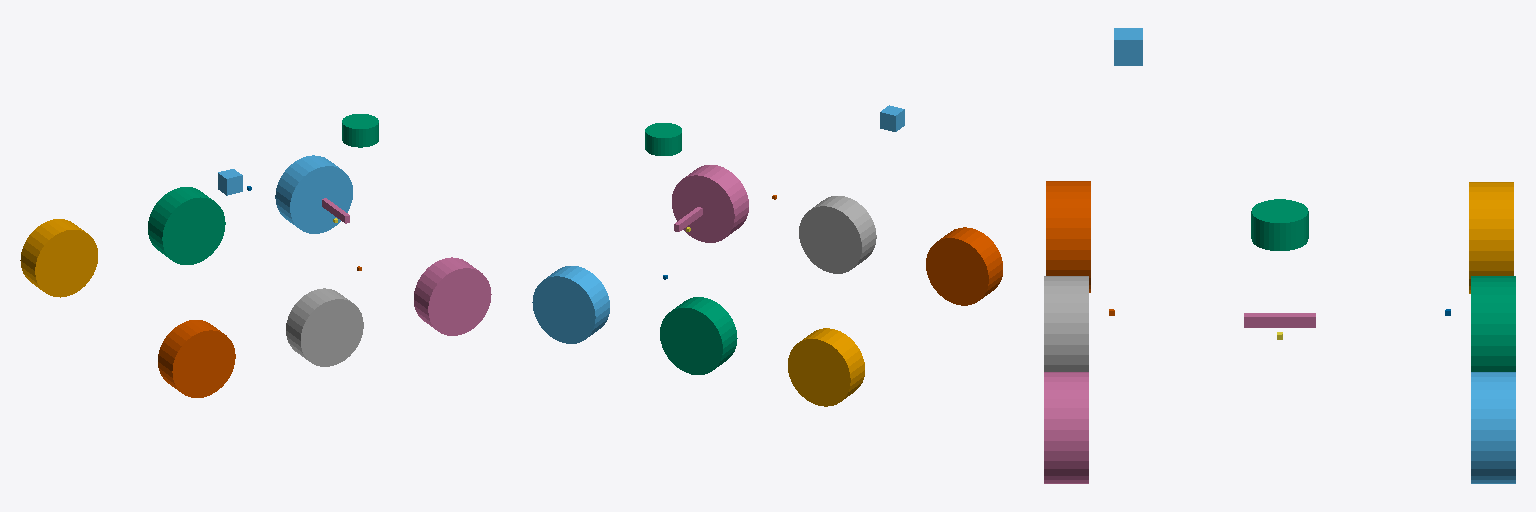
--- Facts derived from the render (not from the file) ---
3 views of the same robot in one strip: view 1: azimuth 30°, elevation 25°; view 2: azimuth 150°, elevation 25°; view 3: azimuth 270°, elevation 25° (orthographic).
Model walli with 19 links and 18 joints (4 revolute, 6 continuous, 8 fixed), rooted at base_link, posed every joint at zero.
Links seen in each view (by area): view 1: right_center_wheel, right_rear_wheel, left_center_wheel, right_front_wheel, left_rear_wheel, left_front_wheel, lidar_link2, gps_link; view 2: left_rear_wheel, right_center_wheel, right_rear_wheel, left_front_wheel, left_center_wheel, right_front_wheel, lidar_link2, gps_link; view 3: right_front_wheel, left_front_wheel, right_center_wheel, left_center_wheel, right_rear_wheel, left_rear_wheel, lidar_link2, gps_link, camera_link.
Boxes of the visible links, bbox=[...] form: right_center_wheel: bbox=[286, 288, 363, 366]; right_rear_wheel: bbox=[158, 320, 235, 397]; left_center_wheel: bbox=[148, 187, 225, 264]; right_front_wheel: bbox=[414, 257, 491, 335]; left_rear_wheel: bbox=[20, 219, 97, 297]; left_front_wheel: bbox=[275, 155, 352, 233]; lidar_link2: bbox=[342, 114, 378, 147]; gps_link: bbox=[218, 169, 242, 195]; left_rear_wheel: bbox=[788, 328, 864, 406]; right_center_wheel: bbox=[799, 196, 876, 273]; right_rear_wheel: bbox=[926, 227, 1002, 305]; left_front_wheel: bbox=[532, 266, 609, 343]; left_center_wheel: bbox=[660, 297, 737, 374]; right_front_wheel: bbox=[672, 165, 748, 242]; lidar_link2: bbox=[645, 123, 681, 155]; gps_link: bbox=[880, 105, 904, 131]; right_front_wheel: bbox=[1044, 372, 1088, 483]; left_front_wheel: bbox=[1471, 372, 1515, 483]; right_center_wheel: bbox=[1044, 276, 1088, 371]; left_center_wheel: bbox=[1471, 276, 1515, 371]; right_rear_wheel: bbox=[1046, 181, 1090, 292]; left_rear_wheel: bbox=[1469, 182, 1513, 293]; lidar_link2: bbox=[1251, 199, 1308, 250]; gps_link: bbox=[1114, 28, 1142, 65]; camera_link: bbox=[1244, 313, 1315, 327].
Size in the robot's own frame: 1.01 by 0.8394 by 0.5772 metres.
Geometry: only primitive shapes (box / cylinder / sphere) drawn; not drawn: 5 mesh visuals (reference in a form the renderer does not follow).

URDF robot description (walli):
<?xml version="1.0" ?>
<!-- =================================================================================== -->
<!-- |    This document was autogenerated by xacro from walli.xacro                    | -->
<!-- |    EDITING THIS FILE BY HAND IS NOT RECOMMENDED                                 | -->
<!-- =================================================================================== -->
<robot name="walli">
  <!-- body_length is measured along the x axis, body_width
       along the y axis, and body_height along the z axis. -->
  <material name="body_mat">
    <color rgba="0.5 0.5 0.5 1"/>
  </material>
  <material name="tire_mat">
    <color rgba="0 0 0 1"/>
  </material>
  <!-- IMU -->
  <link name="imu_link"/>
  <joint name="imu_joint" type="fixed">
    <origin xyz="0.14 0.0 0.22"/>
    <parent link="base_link"/>
    <child link="imu_link"/>
  </joint>
  <gazebo reference="imu_link">
    <sensor name="imu_sensor" type="imu">
      <plugin filename="libgazebo_ros_imu_sensor.so" name="imu_plugin">
        <ros>
          <namespace>/imu</namespace>
          <remapping>~/out:=data</remapping>
        </ros>
        <initial_orientation_as_reference>false</initial_orientation_as_reference>
      </plugin>
      <always_on>true</always_on>
      <update_rate>100</update_rate>
      <visualize>true</visualize>
      <imu>
        <angular_velocity>
          <x>
            <noise type="gaussian">
              <mean>0.0</mean>
              <stddev>2e-4</stddev>
              <bias_mean>0.0</bias_mean>
              <bias_stddev>0.0</bias_stddev>
            </noise>
          </x>
          <y>
            <noise type="gaussian">
              <mean>0.0</mean>
              <stddev>2e-4</stddev>
              <bias_mean>0.0</bias_mean>
              <bias_stddev>0.0</bias_stddev>
            </noise>
          </y>
          <z>
            <noise type="gaussian">
              <mean>0.0</mean>
              <stddev>2e-4</stddev>
              <bias_mean>0.0</bias_mean>
              <bias_stddev>0.0</bias_stddev>
            </noise>
          </z>
        </angular_velocity>
        <linear_acceleration>
          <x>
            <noise type="gaussian">
              <mean>0.0</mean>
              <stddev>1.7e-2</stddev>
              <bias_mean>0.0</bias_mean>
              <bias_stddev>0.0</bias_stddev>
            </noise>
          </x>
          <y>
            <noise type="gaussian">
              <mean>0.0</mean>
              <stddev>1.7e-2</stddev>
              <bias_mean>0.0</bias_mean>
              <bias_stddev>0.0</bias_stddev>
            </noise>
          </y>
          <z>
            <noise type="gaussian">
              <mean>0.0</mean>
              <stddev>1.7e-2</stddev>
              <bias_mean>0.0</bias_mean>
              <bias_stddev>0.0</bias_stddev>
            </noise>
          </z>
        </linear_acceleration>
      </imu>
    </sensor>
  </gazebo>
  <!-- GPS -->
  <link name="gps_link">
    <visual>
      <geometry>
        <box size="0.05 0.05 0.05"/>
      </geometry>
    </visual>
    <collision>
      <geometry>
        <box size="0.05 0.05 0.05"/>
      </geometry>
    </collision>
    <inertial>
      <origin rpy="1.5707963267948966 0 1.5707963267948966" xyz="0 0 0"/>
      <mass value="0.1"/>
      <inertia ixx="0.0001666666666666667" ixy="0.0" ixz="0.0" iyy="0.0001666666666666667" iyz="0.0" izz="0.0001666666666666667"/>
    </inertial>
  </link>
  <joint name="gps_joint" type="fixed">
    <axis xyz="1 0 0"/>
    <origin xyz="-0.39 -0.27 0.34"/>
    <parent link="base_link"/>
    <child link="gps_link"/>
  </joint>
  <gazebo reference="gps">
    <sensor name="gps" type="gps">
      <plugin filename="libgazebo_ros_gps_sensor.so" name="gps_plugin">
        <ros>
          <namespace>/gps</namespace>
          <remapping>~/out:=data_raw</remapping>
        </ros>
        <frame_name>gps_link</frame_name>
      </plugin>
      <always_on>true</always_on>
      <updateRate>30</updateRate>
    </sensor>
  </gazebo>
  <!-- LIDAR -->
  <link name="lidar_link2">
    <inertial>
      <origin rpy="0 0 0" xyz="0 0 0"/>
      <mass value="0.125"/>
      <inertia ixx="0.001" ixy="0" ixz="0" iyy="0.001" iyz="0" izz="0.001"/>
    </inertial>
    <collision>
      <origin rpy="0 0 0" xyz="0 0 0"/>
      <geometry>
        <cylinder length="0.055" radius="0.0508"/>
      </geometry>
    </collision>
    <visual>
      <origin rpy="0 0 0" xyz="0 0 0"/>
      <geometry>
        <cylinder length="0.055" radius="0.0508"/>
      </geometry>
    </visual>
  </link>
  <joint name="lidar_joint" type="fixed">
    <parent link="base_link"/>
    <child link="lidar_link2"/>
    <origin rpy="3.14159265358 0 0" xyz="0.1778 0.0 0.254"/>
  </joint>
  <!--<gazebo reference="lidar_link">
    <sensor name="lidar" type="ray">
      <always_on>true</always_on>
      <visualize>true</visualize>
      <update_rate>5</update_rate>
      <ray>
        <scan>
          <horizontal>
            <samples>360</samples>
            <resolution>1.000000</resolution>
            <min_angle>0.000000</min_angle>
            <max_angle>6.280000</max_angle>
          </horizontal>
        </scan>
        <range>
          <min>0.12</min>
          <max>3.5</max>
          <resolution>0.015000</resolution>
        </range>
        <noise>
          <type>gaussian</type>
          <mean>0.0</mean>
          <stddev>0.01</stddev>
        </noise>
      </ray>
      <plugin name="scan" filename="libgazebo_ros_ray_sensor.so">
        <ros>
          <remapping>~/out:=scan</remapping>
        </ros>
        <output_type>sensor_msgs/LaserScan</output_type>
        <frame_name>lidar_link</frame_name>
      </plugin>
    </sensor>
  </gazebo> -->
  <link name="cam/center">
    <visual>
      <geometry>
        <box size="0.01 0.01 0.01"/>
      </geometry>
    </visual>
    <collision>
      <geometry>
        <box size="0.01 0.01 0.01"/>
      </geometry>
    </collision>
    <inertial>
      <origin rpy="1.5707963267948966 0 1.5707963267948966" xyz="0 0 0"/>
      <mass value="0.01"/>
      <inertia ixx="1.6666666666666668e-07" ixy="0.0" ixz="0.0" iyy="1.6666666666666668e-07" iyz="0.0" izz="1.6666666666666668e-07"/>
    </inertial>
  </link>
  <joint name="center_cam_joint" type="fixed">
    <axis xyz="1 0 0"/>
    <!-- Camera Orientation-->
    <origin rpy="0 0 -0.14" xyz="0.1 0 0"/>
    <parent link="base_link"/>
    <child link="cam/center"/>
  </joint>
  <gazebo reference="cam/center">
    <sensor name="center_sensor" type="camera">
      <plugin filename="libgazebo_ros_camera.so" name="center_sensor">
        <ros>
          <namespace>/image</namespace>
          <remapping>~/image_raw:=center_img</remapping>
          <remapping>~/camera_info:=center_camera_info</remapping>
        </ros>
        <initial_orientation_as_reference>false</initial_orientation_as_reference>
        <camera_name>center_camera</camera_name>
        <frame_name>center_tf</frame_name>
        <hack_baseline>0.07</hack_baseline>
      </plugin>
      <always_on>true</always_on>
      <update_rate>100</update_rate>
      <visualize>true</visualize>
      <camera name="cam/center">
        <horizontal_fov>1.3962634</horizontal_fov>
        <image>
          <width>800</width>
          <height>800</height>
          <format>R8G8B8</format>
        </image>
        <clip>
          <near>0.02</near>
          <far>300</far>
        </clip>
        <noise>
          <type>gaussian</type>
          <mean>0</mean>
          <stddev>0.007</stddev>
        </noise>
      </camera>
    </sensor>
  </gazebo>
  <link name="cam/left">
    <visual>
      <geometry>
        <box size="0.01 0.01 0.01"/>
      </geometry>
    </visual>
    <collision>
      <geometry>
        <box size="0.01 0.01 0.01"/>
      </geometry>
    </collision>
    <inertial>
      <origin rpy="1.5707963267948966 0 1.5707963267948966" xyz="0 0 0"/>
      <mass value="0.01"/>
      <inertia ixx="1.6666666666666668e-07" ixy="0.0" ixz="0.0" iyy="1.6666666666666668e-07" iyz="0.0" izz="1.6666666666666668e-07"/>
    </inertial>
  </link>
  <joint name="left_cam_joint" type="fixed">
    <axis xyz="1 0 0"/>
    <!-- Camera Orientation-->
    <origin rpy="0 0 1.5" xyz="0 0.3 0"/>
    <parent link="base_link"/>
    <child link="cam/left"/>
  </joint>
  <gazebo reference="cam/left">
    <sensor name="left_sensor" type="camera">
      <plugin filename="libgazebo_ros_camera.so" name="left_sensor">
        <ros>
          <namespace>/image</namespace>
          <remapping>~/image_raw:=left_img</remapping>
          <remapping>~/camera_info:=left_camera_info</remapping>
        </ros>
        <initial_orientation_as_reference>false</initial_orientation_as_reference>
        <camera_name>left_camera</camera_name>
        <frame_name>left_tf</frame_name>
        <hack_baseline>0.07</hack_baseline>
      </plugin>
      <always_on>true</always_on>
      <update_rate>100</update_rate>
      <visualize>true</visualize>
      <camera name="cam/left">
        <horizontal_fov>1.3962634</horizontal_fov>
        <image>
          <width>800</width>
          <height>800</height>
          <format>R8G8B8</format>
        </image>
        <clip>
          <near>0.02</near>
          <far>300</far>
        </clip>
        <noise>
          <type>gaussian</type>
          <mean>0</mean>
          <stddev>0.007</stddev>
        </noise>
      </camera>
    </sensor>
  </gazebo>
  <link name="cam/right">
    <visual>
      <geometry>
        <box size="0.01 0.01 0.01"/>
      </geometry>
    </visual>
    <collision>
      <geometry>
        <box size="0.01 0.01 0.01"/>
      </geometry>
    </collision>
    <inertial>
      <origin rpy="1.5707963267948966 0 1.5707963267948966" xyz="0 0 0"/>
      <mass value="0.01"/>
      <inertia ixx="1.6666666666666668e-07" ixy="0.0" ixz="0.0" iyy="1.6666666666666668e-07" iyz="0.0" izz="1.6666666666666668e-07"/>
    </inertial>
  </link>
  <joint name="right_cam_joint" type="fixed">
    <axis xyz="1 0 0"/>
    <!-- Camera Orientation-->
    <origin rpy="0 0 -1.5" xyz="0 -0.3 0"/>
    <parent link="base_link"/>
    <child link="cam/right"/>
  </joint>
  <gazebo reference="cam/right">
    <sensor name="right_sensor" type="camera">
      <plugin filename="libgazebo_ros_camera.so" name="right_sensor">
        <ros>
          <namespace>/image</namespace>
          <remapping>~/image_raw:=right_img</remapping>
          <remapping>~/camera_info:=right_camera_info</remapping>
        </ros>
        <initial_orientation_as_reference>false</initial_orientation_as_reference>
        <camera_name>right_camera</camera_name>
        <frame_name>right_tf</frame_name>
        <hack_baseline>0.07</hack_baseline>
      </plugin>
      <always_on>true</always_on>
      <update_rate>100</update_rate>
      <visualize>true</visualize>
      <camera name="cam/right">
        <horizontal_fov>1.3962634</horizontal_fov>
        <image>
          <width>800</width>
          <height>800</height>
          <format>R8G8B8</format>
        </image>
        <clip>
          <near>0.02</near>
          <far>300</far>
        </clip>
        <noise>
          <type>gaussian</type>
          <mean>0</mean>
          <stddev>0.007</stddev>
        </noise>
      </camera>
    </sensor>
  </gazebo>
  <!-- Depth Camera -->
  <link name="camera_link">
    <visual>
      <origin rpy="0 0 0" xyz="0 0 0"/>
      <geometry>
        <box size="0.015 0.130 0.022"/>
      </geometry>
    </visual>
    <collision>
      <origin rpy="0 0 0" xyz="0 0 0"/>
      <geometry>
        <box size="0.015 0.130 0.022"/>
      </geometry>
    </collision>
    <inertial>
      <origin rpy="0 0 0" xyz="0 0 0"/>
      <mass value="0.035"/>
      <inertia ixx="0.001" ixy="0" ixz="0" iyy="0.001" iyz="0" izz="0.001"/>
    </inertial>
  </link>
  <joint name="camera_joint" type="fixed">
    <parent link="base_link"/>
    <child link="camera_link"/>
    <origin rpy="0 0 0" xyz="0.1 0 0.03"/>
  </joint>
  <link name="camera_depth_frame"/>
  <joint name="camera_depth_joint" type="fixed">
    <origin rpy="-1.5707963267948966 0 -1.5707963267948966" xyz="0 0 0"/>
    <parent link="camera_link"/>
    <child link="camera_depth_frame"/>
  </joint>
  <gazebo reference="camera_link">
    <sensor name="depth_camera" type="depth">
      <visualize>true</visualize>
      <update_rate>30.0</update_rate>
      <camera name="camera">
        <horizontal_fov>1.51844</horizontal_fov>
        <image>
          <width>640</width>
          <height>360</height>
          <format>R8G8B8</format>
        </image>
        <clip>
          <near>0.05</near>
          <far>3</far>
        </clip>
      </camera>
      <plugin filename="libgazebo_ros_camera.so" name="depth_camera_controller">
        <baseline>0.2</baseline>
        <alwaysOn>true</alwaysOn>
        <updateRate>0.0</updateRate>
        <frame_name>camera_depth_frame</frame_name>
        <pointCloudCutoff>0.5</pointCloudCutoff>
        <pointCloudCutoffMax>3.0</pointCloudCutoffMax>
        <distortionK1>0</distortionK1>
        <distortionK2>0</distortionK2>
        <distortionK3>0</distortionK3>
        <distortionT1>0</distortionT1>
        <distortionT2>0</distortionT2>
        <CxPrime>0</CxPrime>
        <Cx>0</Cx>
        <Cy>0</Cy>
        <focalLength>0</focalLength>
        <hackBaseline>0</hackBaseline>
      </plugin>
    </sensor>
  </gazebo>
  <gazebo>
    <sensor name="imu" type="imu">
      <always_on>true</always_on>
      <update_rate>30</update_rate>
      <plugin filename="libgazebo_ros_imu_sensor.so" name="imu">
        <ros>
          <namespace>/imu</namespace>
          <argument>~/out:=data</argument>
        </ros>
        <frame_name>imu</frame_name>
      </plugin>
    </sensor>
    <plugin filename="libgazebo_ros_p3d.so" name="gazebo_ros_p3d">
      <alwaysOn>true</alwaysOn>
      <update_rate>30.0</update_rate>
      <ros>
        <namespace>/ground_truth</namespace>
        <remapping>odom:=state_raw</remapping>
      </ros>
      <body_name>base_link</body_name>
      <frame_name>world</frame_name>
      <xyz_offset>0 0 0</xyz_offset>
      <rpy_offset>0.0 0.0 0.0</rpy_offset>
      <gaussian_noise>0.00</gaussian_noise>
    </plugin>
  </gazebo>
  <link name="base_link">
    <inertial>
      <origin rpy="0 0 0" xyz="-0.22771 0.0020794 0.13424"/>
      <mass value="1.584994"/>
      <inertia ixx="0.017201" ixy="-2.0986E-11" ixz="5.8899E-06" iyy="0.0028906" iyz="5.0336E-07" izz="0.019124"/>
    </inertial>
    <visual>
      <origin rpy="0 0 0" xyz="0 0 0"/>
      <geometry>
        <mesh filename="file://[local-path]/install/urc_hw_description/share/urc_hw_description/urdf/meshes/visual/base_link.STL"/>
      </geometry>
    </visual>
    <collision>
      <origin rpy="0 0 0" xyz="0 0 0"/>
      <geometry>
        <mesh filename="file://[local-path]/install/urc_hw_description/share/urc_hw_description/urdf/meshes/collision/base_link_collision.STL"/>
      </geometry>
    </collision>
  </link>
  <!-- ROCKERS -->
  <link name="rightrocker">
    <inertial>
      <origin rpy="0 0 0" xyz="0.062687 0.034616 -0.016048"/>
      <mass value="1.387336"/>
      <inertia ixx="0.002956" ixy="-0.000001489324" ixz="-0.000008103407" iyy="0.02924" iyz="0.00007112" izz="0.02832"/>
    </inertial>
    <visual>
      <origin rpy="0 0 0" xyz="0 0 0"/>
      <geometry>
        <mesh filename="file://[local-path]/install/urc_hw_description/share/urc_hw_description/urdf/meshes/visual/rightrocker.STL"/>
      </geometry>
    </visual>
    <collision>
      <origin rpy="0 0 0" xyz="0 0 0"/>
      <geometry>
        <mesh filename="file://[local-path]/install/urc_hw_description/share/urc_hw_description/urdf/meshes/collision/rightrocker_collision.STL"/>
      </geometry>
    </collision>
  </link>
  <joint name="rightrockerjoint" type="revolute">
    <origin rpy="0 0 0" xyz="-0.194 -0.33715 0.080295"/>
    <parent link="base_link"/>
    <child link="rightrocker"/>
    <axis xyz="0 1 0"/>
    <limit effort="0.0" lower="-0.24" upper="0.24" velocity="100.0"/>
    <dynamics damping="0.1" friction="1.0"/>
  </joint>
  <link name="leftrocker">
    <inertial>
      <origin rpy="0 0 0" xyz="0.065435 -0.034981 -0.01685"/>
      <mass value="1.387336"/>
      <inertia ixx="0.002956" ixy="-0.000001489324" ixz="-0.000008103407" iyy="0.02924" iyz="0.00007112" izz="0.02832"/>
    </inertial>
    <visual>
      <origin rpy="0 0 0" xyz="0 0 0"/>
      <geometry>
        <mesh filename="file://[local-path]/install/urc_hw_description/share/urc_hw_description/urdf/meshes/visual/leftrocker.STL"/>
      </geometry>
    </visual>
    <collision>
      <origin rpy="0 0 0" xyz="0 0 0"/>
      <geometry>
        <mesh filename="file://[local-path]/install/urc_hw_description/share/urc_hw_description/urdf/meshes/collision/leftrocker_collision.STL"/>
      </geometry>
    </collision>
  </link>
  <joint name="leftrockerjoint" type="revolute">
    <origin rpy="0 0 0" xyz="-0.19241 0.33715 0.080257"/>
    <parent link="base_link"/>
    <child link="leftrocker"/>
    <axis xyz="0 1 0"/>
    <limit effort="0.0" lower="-0.24" upper="0.24" velocity="100.0"/>
    <dynamics damping="0.1" friction="1.0"/>
  </joint>
  <!-- BOGIES -->
  <link name="rightbogie">
    <inertial>
      <origin rpy="0 0 0" xyz="-6.8787E-09 0.032385 -0.015429"/>
      <mass value="0.66758"/>
      <inertia ixx="0.0019756" ixy="-5.9804E-10" ixz="9.4624E-11" iyy="0.0044836" iyz="2.6509E-13" izz="0.003846"/>
    </inertial>
    <visual>
      <origin rpy="0 0 0" xyz="0 0 0"/>
      <geometry>
        <mesh filename="file://[local-path]/install/urc_hw_description/share/urc_hw_description/urdf/meshes/visual/rightbogie.STL"/>
      </geometry>
    </visual>
    <collision>
      <origin rpy="0 0 0" xyz="0 0 0"/>
      <geometry>
        <mesh filename="file://[local-path]/install/urc_hw_description/share/urc_hw_description/urdf/meshes/collision/rightbogie_collision.STL"/>
      </geometry>
    </collision>
  </link>
  <joint name="rightbogiejoint" type="revolute">
    <origin rpy="0 0 0" xyz="0.24177 -0.00254 -0.074203"/>
    <parent link="rightrocker"/>
    <child link="rightbogie"/>
    <axis xyz="0 1 0"/>
    <limit effort="0.0" lower="-0.24" upper="0.24" velocity="100.0"/>
    <dynamics damping="0.1" friction="1.0"/>
  </joint>
  <link name="leftbogie">
    <inertial>
      <origin rpy="0 0 0" xyz="-6.8787E-09 -0.032385 -0.015429"/>
      <mass value="0.66758"/>
      <inertia ixx="0.0019756" ixy="-5.9804E-10" ixz="9.4624E-11" iyy="0.0044836" iyz="2.6509E-13" izz="0.003846"/>
    </inertial>
    <visual>
      <origin rpy="0 0 0" xyz="0 0 0"/>
      <geometry>
        <mesh filename="file://[local-path]/install/urc_hw_description/share/urc_hw_description/urdf/meshes/visual/leftbogie.STL"/>
      </geometry>
    </visual>
    <collision>
      <origin rpy="0 0 0" xyz="0 0 0"/>
      <geometry>
        <mesh filename="file://[local-path]/install/urc_hw_description/share/urc_hw_description/urdf/meshes/collision/leftbogie_collision.STL"/>
      </geometry>
    </collision>
  </link>
  <joint name="leftbogiejoint" type="revolute">
    <origin rpy="0 0 0" xyz="0.24182 0.00254 -0.073984"/>
    <parent link="leftrocker"/>
    <child link="leftbogie"/>
    <axis xyz="0 1 0"/>
    <limit effort="0.0" lower="-0.24" upper="0.24" velocity="100.0"/>
    <dynamics damping="0.1" friction="1.0"/>
  </joint>
  <!-- WHEELS -->
  <link name="right_rear_wheel">
    <inertial>
      <origin rpy="0 0 0" xyz="0 0 0"/>
      <mass value="0.283642"/>
      <inertia ixx="0.000391" ixy="0.00000123962" ixz="5.52582e-7" iyy="0.0004716" iyz="-0.000002082042" izz="0.000391"/>
    </inertial>
    <visual>
      <origin rpy="1.5707963267948966 0 0" xyz="0 0 0"/>
      <geometry>
        <cylinder length="0.08" radius="0.1"/>
      </geometry>
    </visual>
    <collision>
      <origin rpy="1.5707963267948966 0 0" xyz="0 0 0"/>
      <geometry>
        <cylinder length="0.08" radius="0.1"/>
      </geometry>
    </collision>
  </link>
  <joint name="right_rear_wheel_joint" type="continuous">
    <origin rpy="0 0 0" xyz="-0.36316 -0.04 -0.19158"/>
    <parent link="rightrocker"/>
    <child link="right_rear_wheel"/>
    <axis xyz="0 1 0"/>
    <dynamics damping="0.1" friction="0.3125"/>
  </joint>
  <link name="right_front_wheel">
    <inertial>
      <origin rpy="0 0 0" xyz="0 0 0"/>
      <mass value="0.283642"/>
      <inertia ixx="0.000391" ixy="0.00000123962" ixz="5.52582e-7" iyy="0.0004716" iyz="-0.000002082042" izz="0.000391"/>
    </inertial>
    <visual>
      <origin rpy="1.5707963267948966 0 0" xyz="0 0 0"/>
      <geometry>
        <cylinder length="0.08" radius="0.1"/>
      </geometry>
    </visual>
    <collision>
      <origin rpy="1.5707963267948966 0 0" xyz="0 0 0"/>
      <geometry>
        <cylinder length="0.08" radius="0.1"/>
      </geometry>
    </collision>
  </link>
  <joint name="right_front_wheel_joint" type="continuous">
    <origin rpy="0 0 0" xyz="0.20139 -0.04 -0.11671"/>
    <parent link="rightbogie"/>
    <child link="right_front_wheel"/>
    <axis xyz="0 1 0"/>
    <dynamics damping="0.1" friction="0.3125"/>
  </joint>
  <link name="right_center_wheel">
    <inertial>
      <origin rpy="0 0 0" xyz="0 0 0"/>
      <mass value="0.283642"/>
      <inertia ixx="0.000391" ixy="0.00000123962" ixz="5.52582e-7" iyy="0.0004716" iyz="-0.000002082042" izz="0.000391"/>
    </inertial>
    <visual>
      <origin rpy="1.5707963267948966 0 0" xyz="0 0 0"/>
      <geometry>
        <cylinder length="0.08" radius="0.1"/>
      </geometry>
    </visual>
    <collision>
      <origin rpy="1.5707963267948966 0 0" xyz="0 0 0"/>
      <geometry>
        <cylinder length="0.08" radius="0.1"/>
      </geometry>
    </collision>
  </link>
  <joint name="right_center_wheel_joint" type="continuous">
    <origin rpy="0 0 0" xyz="-0.20177 -0.04 -0.11606"/>
    <parent link="rightbogie"/>
    <child link="right_center_wheel"/>
    <axis xyz="0 1 0"/>
    <dynamics damping="0.1" friction="0.3125"/>
  </joint>
  <link name="left_rear_wheel">
    <inertial>
      <origin rpy="0 0 0" xyz="0 0 0"/>
      <mass value="0.283642"/>
      <inertia ixx="0.000391" ixy="0.00000123962" ixz="5.52582e-7" iyy="0.0004716" iyz="-0.000002082042" izz="0.000391"/>
    </inertial>
    <visual>
      <origin rpy="1.5707963267948966 0 0" xyz="0 0 0"/>
      <geometry>
        <cylinder length="0.08" radius="0.1"/>
      </geometry>
    </visual>
    <collision>
      <origin rpy="1.5707963267948966 0 0" xyz="0 0 0"/>
      <geometry>
        <cylinder length="0.08" radius="0.1"/>
      </geometry>
    </collision>
  </link>
  <joint name="left_rear_wheel_joint" type="continuous">
    <origin rpy="0 0 0" xyz="-0.36266 0.04 -0.19248"/>
    <parent link="leftrocker"/>
    <child link="left_rear_wheel"/>
    <axis xyz="0 1 0"/>
    <dynamics damping="0.1" friction="0.3125"/>
  </joint>
  <link name="left_front_wheel">
    <inertial>
      <origin rpy="0 0 0" xyz="0 0 0"/>
      <mass value="0.283642"/>
      <inertia ixx="0.000391" ixy="0.00000123962" ixz="5.52582e-7" iyy="0.0004716" iyz="-0.000002082042" izz="0.000391"/>
    </inertial>
    <visual>
      <origin rpy="1.5707963267948966 0 0" xyz="0 0 0"/>
      <geometry>
        <cylinder length="0.08" radius="0.1"/>
      </geometry>
    </visual>
    <collision>
      <origin rpy="1.5707963267948966 0 0" xyz="0 0 0"/>
      <geometry>
        <cylinder length="0.08" radius="0.1"/>
      </geometry>
    </collision>
  </link>
  <joint name="left_front_wheel_joint" type="continuous">
    <origin rpy="0 0 0" xyz="0.20177 0.04 -0.11606"/>
    <parent link="leftbogie"/>
    <child link="left_front_wheel"/>
    <axis xyz="0 1 0"/>
    <dynamics damping="0.1" friction="0.3125"/>
  </joint>
  <link name="left_center_wheel">
    <inertial>
      <origin rpy="0 0 0" xyz="0 0 0"/>
      <mass value="0.283642"/>
      <inertia ixx="0.000391" ixy="0.00000123962" ixz="5.52582e-7" iyy="0.0004716" iyz="-0.000002082042" izz="0.000391"/>
    </inertial>
    <visual>
      <origin rpy="1.5707963267948966 0 0" xyz="0 0 0"/>
      <geometry>
        <cylinder length="0.08" radius="0.1"/>
      </geometry>
    </visual>
    <collision>
      <origin rpy="1.5707963267948966 0 0" xyz="0 0 0"/>
      <geometry>
        <cylinder length="0.08" radius="0.1"/>
      </geometry>
    </collision>
  </link>
  <joint name="left_center_wheel_joint" type="continuous">
    <origin rpy="0 0 0" xyz="-0.20139 0.04 -0.11671"/>
    <parent link="leftbogie"/>
    <child link="left_center_wheel"/>
    <axis xyz="0 1 0"/>
    <dynamics damping="0.1" friction="0.3125"/>
  </joint>
  <gazebo reference="base_link">
    <material>Gazebo/Grey</material>
  </gazebo>
  <gazebo reference="rightrocker">
    <material>Gazebo/Grey</material>
  </gazebo>
  <gazebo reference="rightbogie">
    <material>Gazebo/Grey</material>
  </gazebo>
  <gazebo reference="leftrocker">
    <material>Gazebo/Grey</material>
  </gazebo>
  <gazebo reference="leftbogie">
    <material>Gazebo/Grey</material>
  </gazebo>
  <gazebo reference="right_rear_wheel">
    <material>Gazebo/Black</material>
    <kp>1e6</kp>
    <kd>100.0</kd>
    <mu1>1.0</mu1>
    <mu2>0.25</mu2>
    <fdir1>1 0 0</fdir1>
    <minDepth>0.003</minDepth>
  </gazebo>
  <gazebo reference="right_front_wheel">
    <material>Gazebo/Black</material>
    <kp>1e6</kp>
    <kd>100.0</kd>
    <mu1>1.0</mu1>
    <mu2>0.25</mu2>
    <fdir1>1 0 0</fdir1>
    <minDepth>0.003</minDepth>
  </gazebo>
  <gazebo reference="right_center_wheel">
    <material>Gazebo/Black</material>
    <kp>1e6</kp>
    <kd>100.0</kd>
    <mu1>1.0</mu1>
    <mu2>0.25</mu2>
    <fdir1>1 0 0</fdir1>
    <minDepth>0.003</minDepth>
  </gazebo>
  <gazebo reference="left_rear_wheel">
    <material>Gazebo/Black</material>
    <kp>1e6</kp>
    <kd>100.0</kd>
    <mu1>1.0</mu1>
    <mu2>0.25</mu2>
    <fdir1>1 0 0</fdir1>
    <minDepth>0.003</minDepth>
  </gazebo>
  <gazebo reference="left_front_wheel">
    <material>Gazebo/Black</material>
    <kp>1e6</kp>
    <kd>100.0</kd>
    <mu1>1.0</mu1>
    <mu2>0.25</mu2>
    <fdir1>1 0 0</fdir1>
    <minDepth>0.003</minDepth>
  </gazebo>
  <gazebo reference="left_center_wheel">
    <material>Gazebo/Black</material>
    <kp>1e6</kp>
    <kd>100.0</kd>
    <mu1>1.0</mu1>
    <mu2>0.25</mu2>
    <fdir1>1 0 0</fdir1>
    <minDepth>0.003</minDepth>
  </gazebo>
  <ros2_control name="GazeboSystem" type="system">
    <hardware>
      <plugin>gazebo_ros2_control/GazeboSystem</plugin>
    </hardware>
    <joint name="leftbogiejoint">
      <state_interface name="velocity"/>
      <state_interface name="position"/>
    </joint>
    <joint name="leftrockerjoint">
      <state_interface name="velocity"/>
      <state_interface name="position"/>
    </joint>
    <joint name="rightbogiejoint">
      <state_interface name="velocity"/>
      <state_interface name="position"/>
    </joint>
    <joint name="rightrockerjoint">
      <state_interface name="velocity"/>
      <state_interface name="position"/>
    </joint>
    <joint name="left_front_wheel_joint">
      <command_interface name="velocity">
        <param name="min">-0.05</param>
        <param name="max">0.05</param>
      </command_interface>
      <state_interface name="velocity"/>
      <state_interface name="position"/>
    </joint>
    <joint name="right_front_wheel_joint">
      <command_interface name="velocity">
        <param name="min">-0.05</param>
        <param name="max">0.05</param>
      </command_interface>
      <state_interface name="velocity"/>
      <state_interface name="position"/>
    </joint>
    <joint name="left_center_wheel_joint">
      <command_interface name="velocity">
        <param name="min">-0.05</param>
        <param name="max">0.05</param>
      </command_interface>
      <state_interface name="velocity"/>
      <state_interface name="position"/>
    </joint>
    <joint name="right_center_wheel_joint">
      <command_interface name="velocity">
        <param name="min">-0.05</param>
        <param name="max">0.05</param>
      </command_interface>
      <state_interface name="velocity"/>
      <state_interface name="position"/>
    </joint>
    <joint name="left_rear_wheel_joint">
      <command_interface name="velocity">
        <param name="min">-0.05</param>
        <param name="max">0.05</param>
      </command_interface>
      <state_interface name="velocity"/>
      <state_interface name="position"/>
    </joint>
    <joint name="right_rear_wheel_joint">
      <command_interface name="velocity">
        <param name="min">-0.05</param>
        <param name="max">0.05</param>
      </command_interface>
      <state_interface name="velocity"/>
      <state_interface name="position"/>
    </joint>
  </ros2_control>
  <gazebo>
    <plugin filename="libgazebo_ros2_control.so" name="gazebo_ros2_control">
      <parameters>[local-path]/install/urc_bringup/share/urc_bringup/config/controller_config.yaml</parameters>
    </plugin>
  </gazebo>
</robot>
